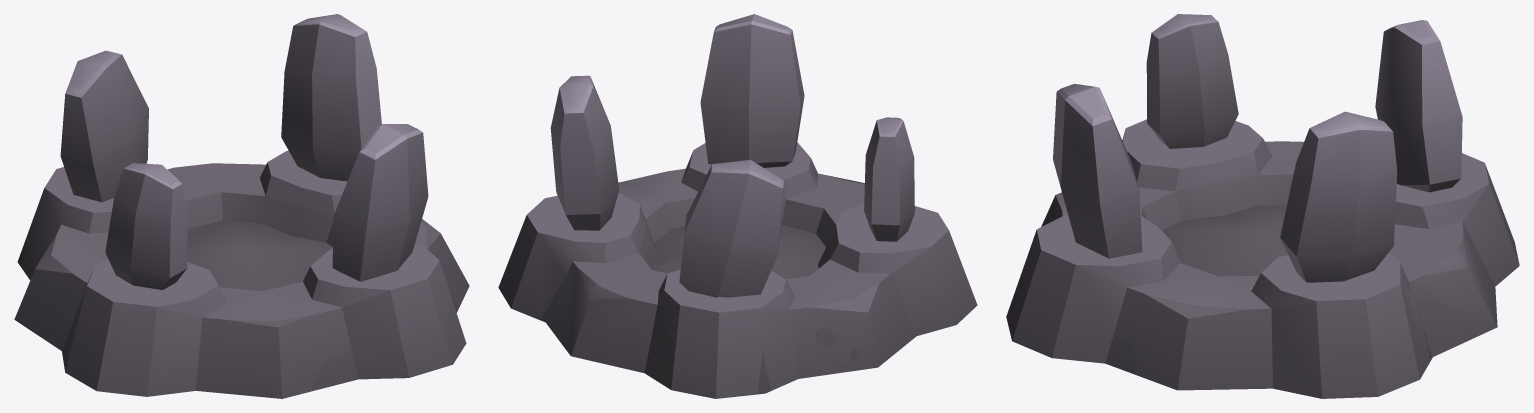
Rendered from graves_group2.glb.
The picture shows the model from 3 angles, left to right: view 1: azimuth 30°, elevation 25°; view 2: azimuth 150°, elevation 25°; view 3: azimuth 270°, elevation 25°; orthographic projection. The views are drawn at different scales.
Parts seen in each view (by area): view 1: graves_group2; view 2: graves_group2; view 3: graves_group2.
Boxes of the visible parts, x1,y1,x2,y2 form: graves_group2: (14,14,469,398); graves_group2: (498,14,977,398); graves_group2: (1006,14,1519,398).
Bounding box in the file's own units: 2.3 × 1.21 × 2.32.
1 material, 1 textured.
